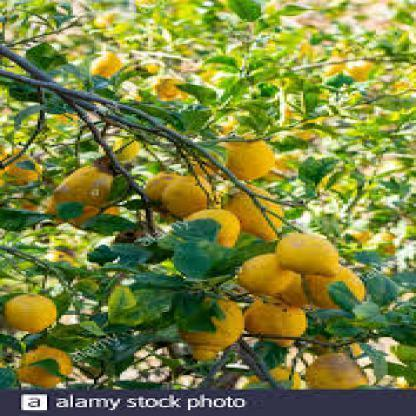lemon: (243, 295, 307, 347), (183, 296, 244, 349), (230, 183, 284, 240), (42, 193, 118, 230), (301, 266, 365, 309), (276, 232, 338, 276), (222, 132, 276, 181), (53, 165, 114, 206), (238, 253, 297, 295), (306, 351, 369, 389), (15, 346, 73, 385), (160, 175, 212, 218), (5, 292, 57, 331), (189, 208, 241, 247), (0, 146, 40, 178), (141, 170, 180, 201), (150, 75, 190, 102), (90, 50, 121, 80), (343, 61, 375, 83)
